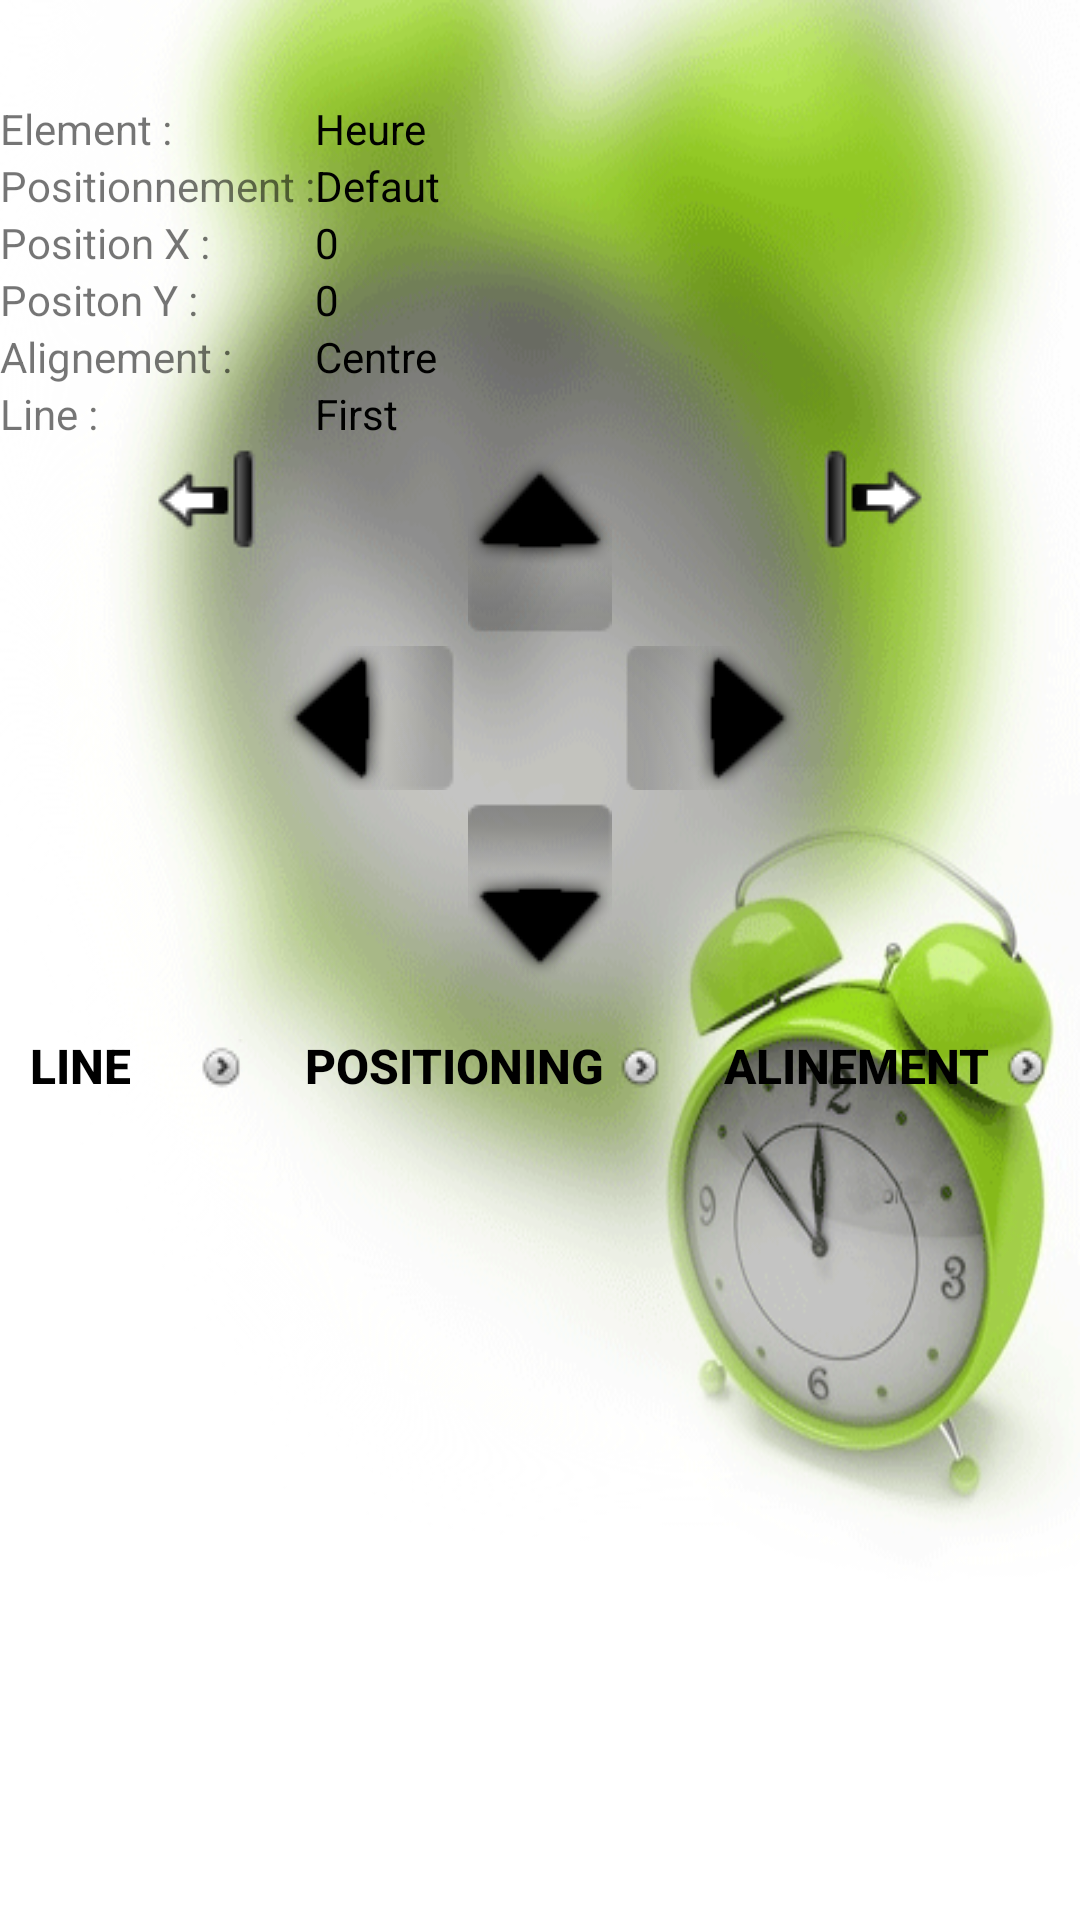

Named icons in this screenshot (1080px x 1920px) and their centers, (x=x, y=y):
elleft: (x=207, y=499)
elright: (x=873, y=499)
fldown: (x=540, y=899)
flleft: (x=366, y=718)
flright: (x=714, y=718)
flup: (x=541, y=523)
